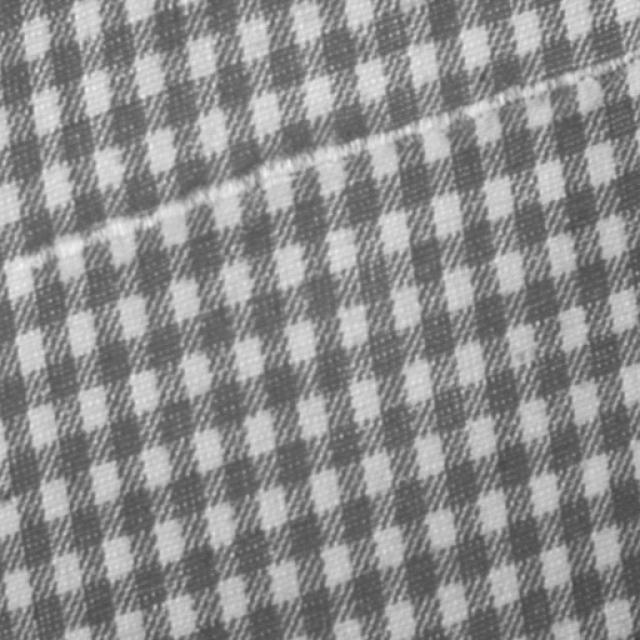Thread-Defect: (3, 51, 637, 282)
